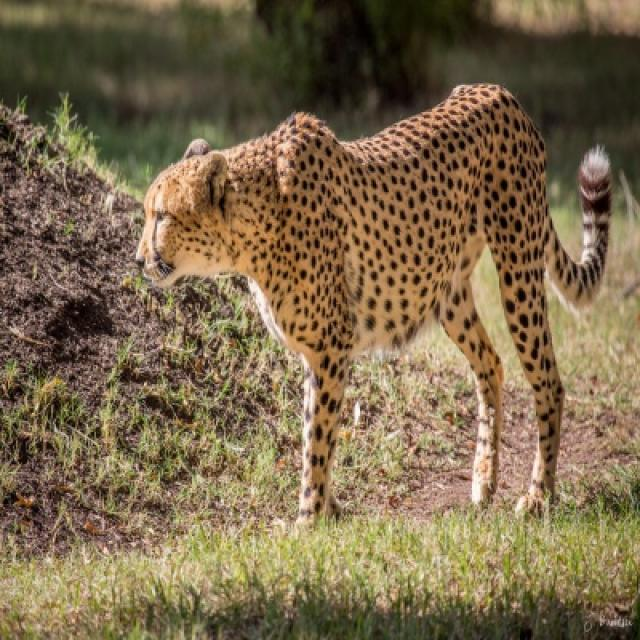Cheetah: (134, 83, 611, 531)
